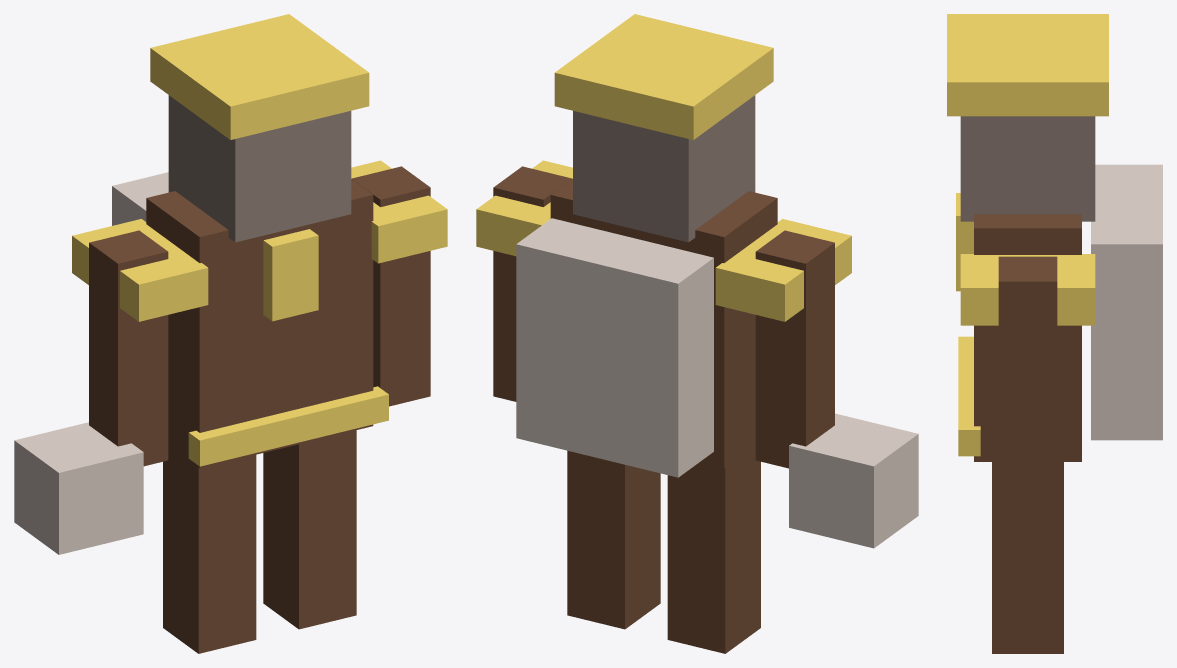
File: 01_tovin_trenchmark_herald_near_deepwater.glb
3 renders of one model, left to right at view 1: azimuth 30°, elevation 25°; view 2: azimuth 150°, elevation 25°; view 3: azimuth 270°, elevation 25°, orthographic.
Parts seen in each view (by area): view 1: Tovin Trenchmark, Herald near Deepwater; view 2: Tovin Trenchmark, Herald near Deepwater; view 3: Tovin Trenchmark, Herald near Deepwater.
Part boxes in pixels (<box>): Tovin Trenchmark, Herald near Deepwater: <box>14,14,447,653</box>; Tovin Trenchmark, Herald near Deepwater: <box>476,14,918,653</box>; Tovin Trenchmark, Herald near Deepwater: <box>947,14,1162,653</box>.
Size of the model in its own units: 1.08 by 1.51 by 0.5214.
